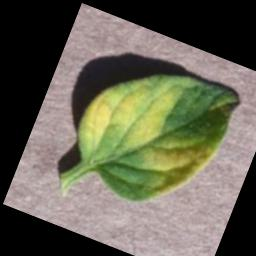Leaf_Mold: (58, 41, 244, 225)
